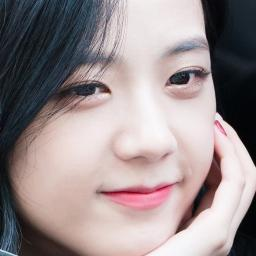face: (16, 0, 216, 256)
